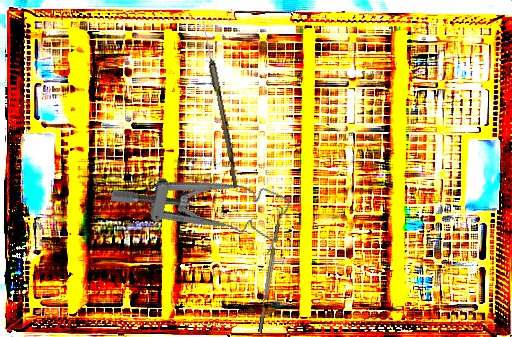Chopper: (251, 205, 285, 333)
Speculum: (108, 133, 295, 269)
Surgical Spoon: (198, 18, 242, 188)
